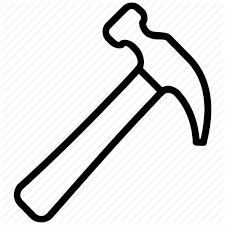hammer: (11, 0, 213, 223)
